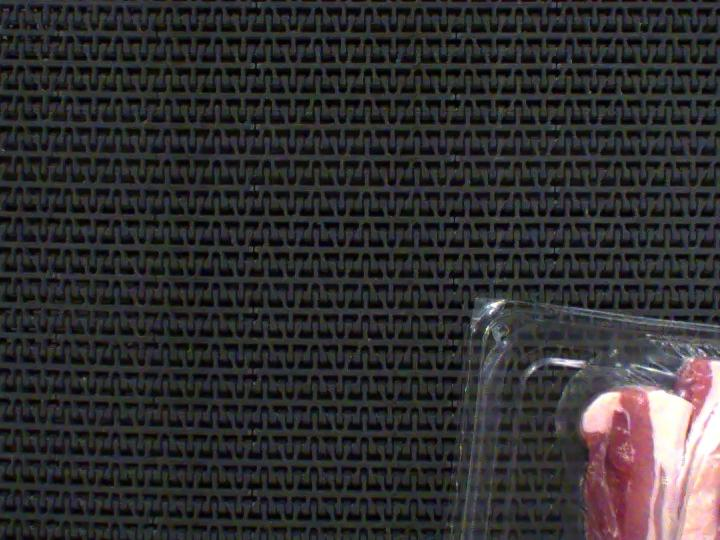unsealed: (516, 321, 720, 540)
